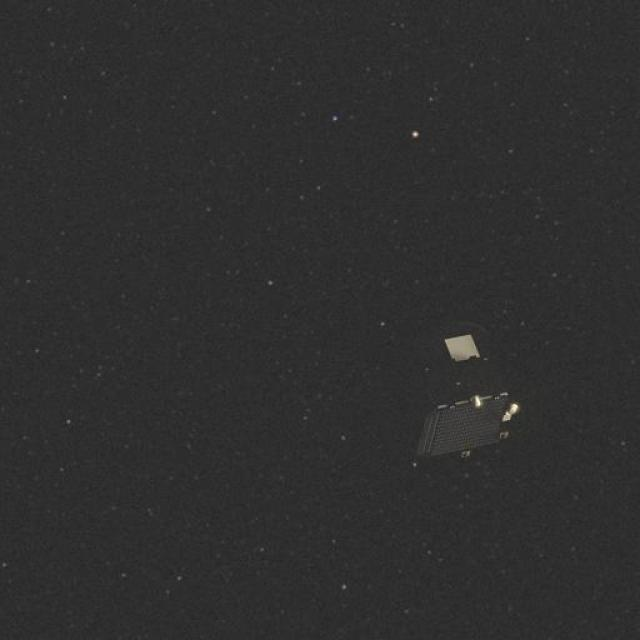proba_3_ocs: (380, 316, 534, 479)
